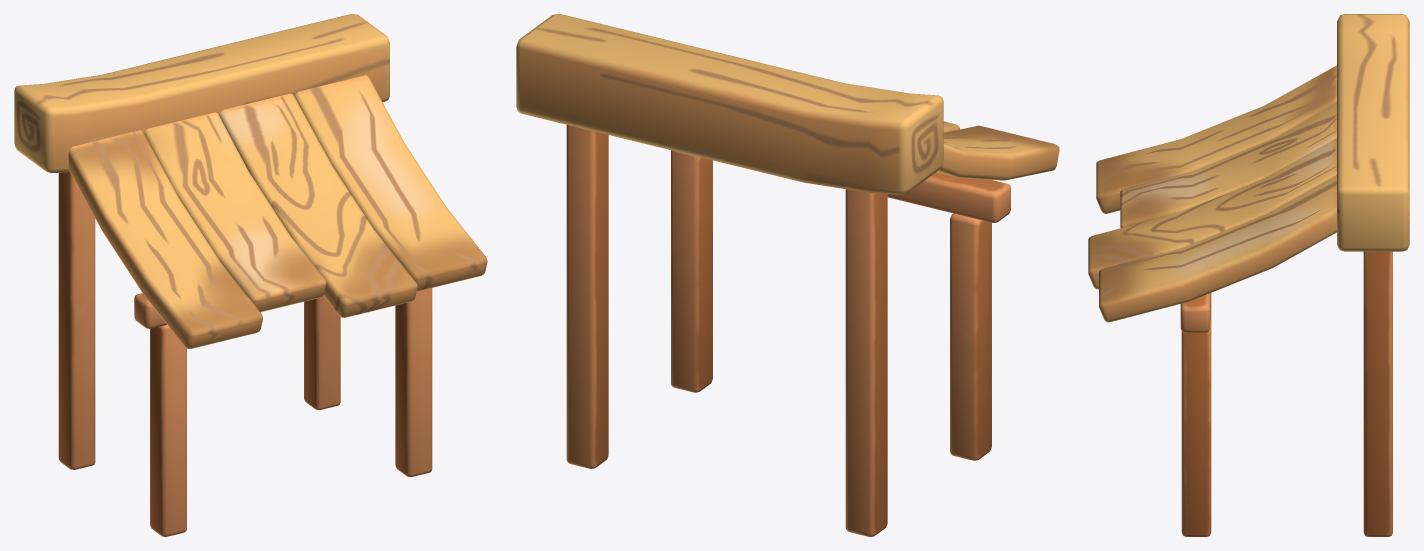
The model's file is shack.fbx.
3 renders of one model, left to right at view 1: azimuth 30°, elevation 25°; view 2: azimuth 150°, elevation 25°; view 3: azimuth 270°, elevation 25°, orthographic. The views are drawn at different scales.
Parts seen in each view (by area): view 1: shack.001; view 2: shack.001; view 3: shack.001.
Part boxes in pixels (box(x1,y1,x2,y2)): shack.001: box(14, 14, 487, 536); shack.001: box(516, 14, 1059, 536); shack.001: box(1088, 14, 1409, 536).
Bounding box in the file's own units: 429 × 452 × 349.
Materials: 1 (1 with a texture image).
